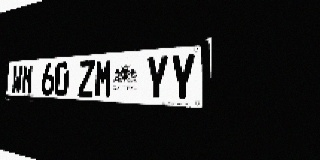0: (54, 62, 69, 96)
6: (41, 63, 55, 96)
M: (94, 59, 113, 98), (21, 64, 34, 95)
W: (11, 65, 23, 94)
Y: (169, 53, 196, 102), (145, 55, 169, 101)
Z: (78, 60, 95, 97)
